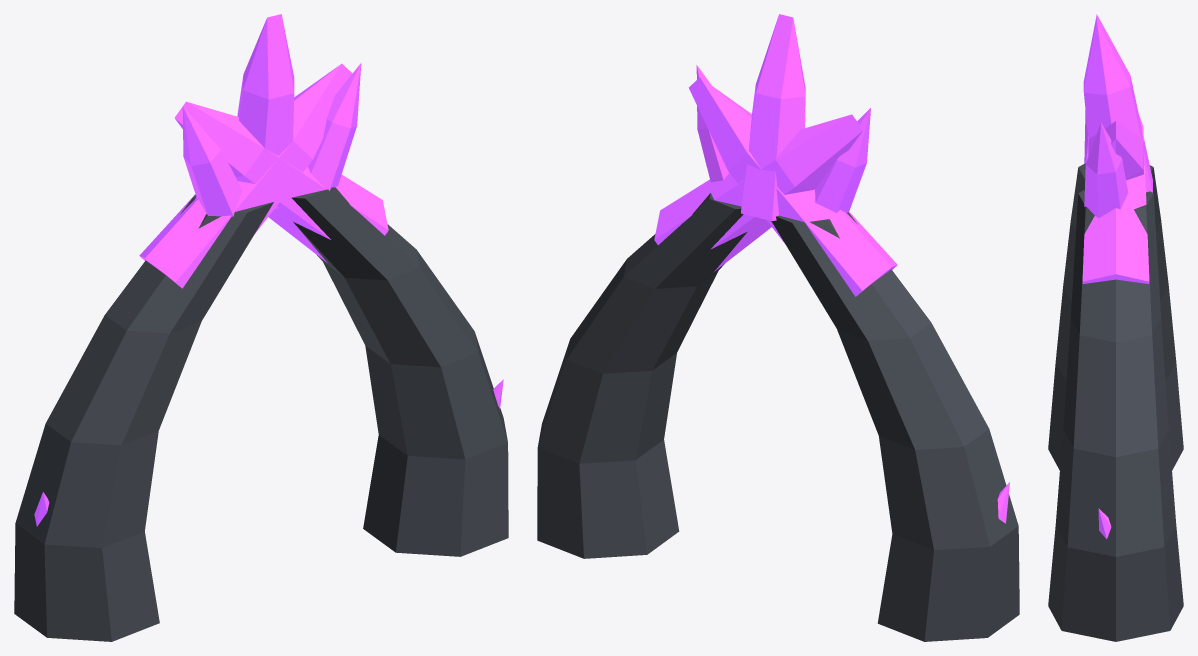
File: PROP_14_CrystalArch.fbx
3 views of the same model, side by side, from view 1: azimuth 30°, elevation 25°; view 2: azimuth 150°, elevation 25°; view 3: azimuth 270°, elevation 25° (orthographic). The views are drawn at different scales.
Parts seen in each view (by area): view 1: PROP_14_CrystalArch; view 2: PROP_14_CrystalArch; view 3: PROP_14_CrystalArch.
Boxes of the visible parts, bbox=[...] form: PROP_14_CrystalArch: bbox=[14, 14, 508, 641]; PROP_14_CrystalArch: bbox=[537, 14, 1019, 641]; PROP_14_CrystalArch: bbox=[1048, 14, 1183, 641].
Bounding box in the file's own units: 326 × 369 × 87.74.
